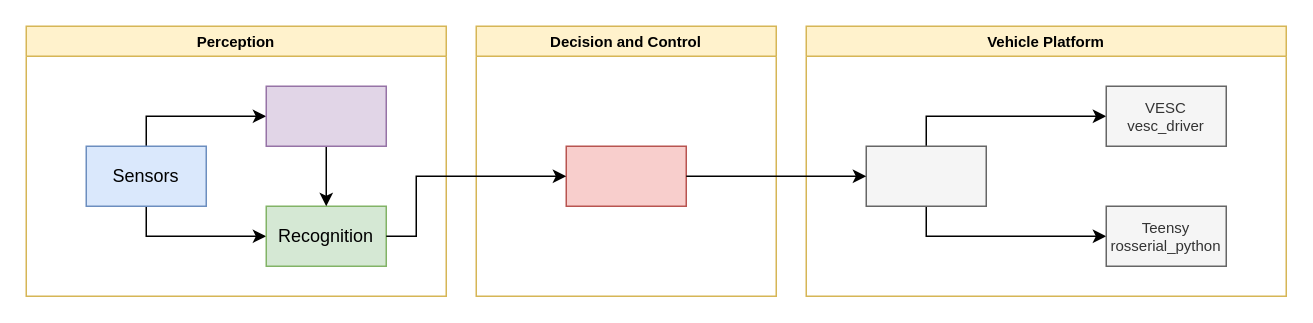
Image size: 1313x323. Some labels were removed from this diagram. The centre of each missing label's shape, as x and y in pixels:
"Drive-API drive_api" belongs at (x=925, y=175).
"Planner" belongs at (x=625, y=175).
"Preprocessing" belongs at (x=325, y=115).
